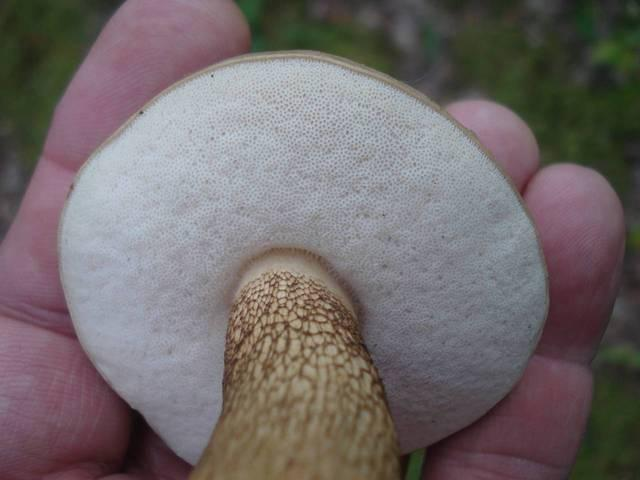poisonous_mushroom: (55, 48, 551, 478)
